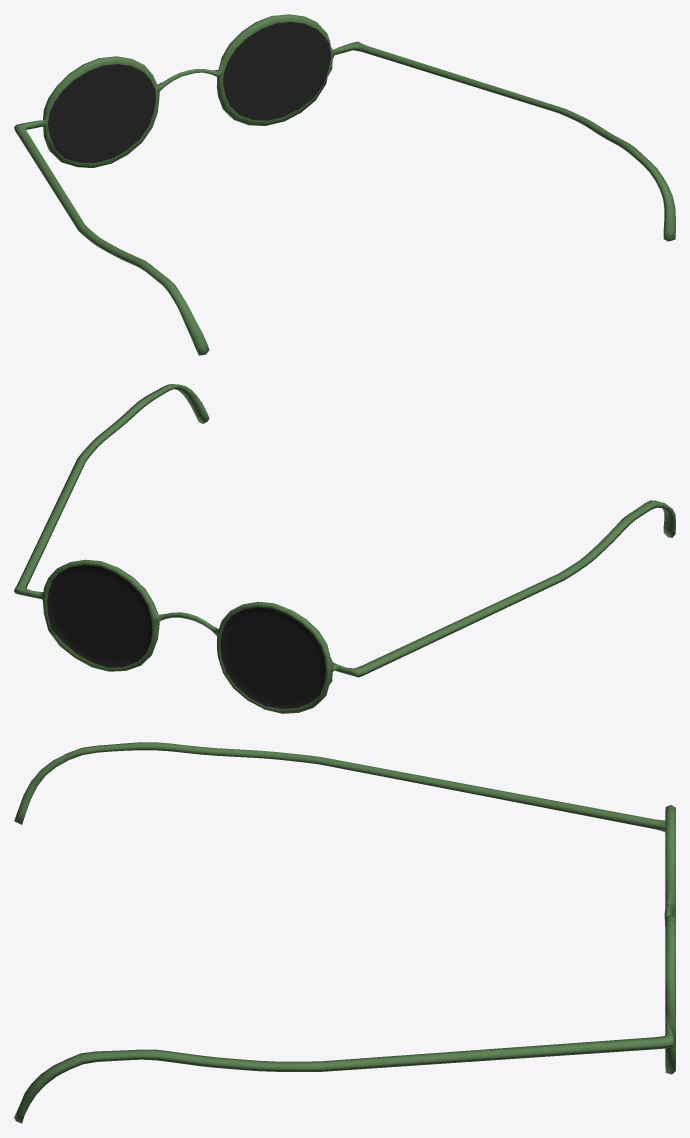
The model's file is Round Glasses.fbx.
The picture shows the model from 3 angles, top to bottom: view 1: azimuth 30°, elevation 25°; view 2: azimuth 150°, elevation 25°; view 3: azimuth 270°, elevation 25°; orthographic projection. The views are drawn at different scales.
Visible parts, largest first — view 1: Round Glasses Lo; view 2: Round Glasses Lo; view 3: Round Glasses Lo.
Part boxes in pixels (left/top/right/bottom): Round Glasses Lo: left=14, top=14, right=675, bottom=355; Round Glasses Lo: left=14, top=384, right=675, bottom=713; Round Glasses Lo: left=14, top=742, right=675, bottom=1123.
Bounding box in the file's own units: 225 × 46.92 × 199.
